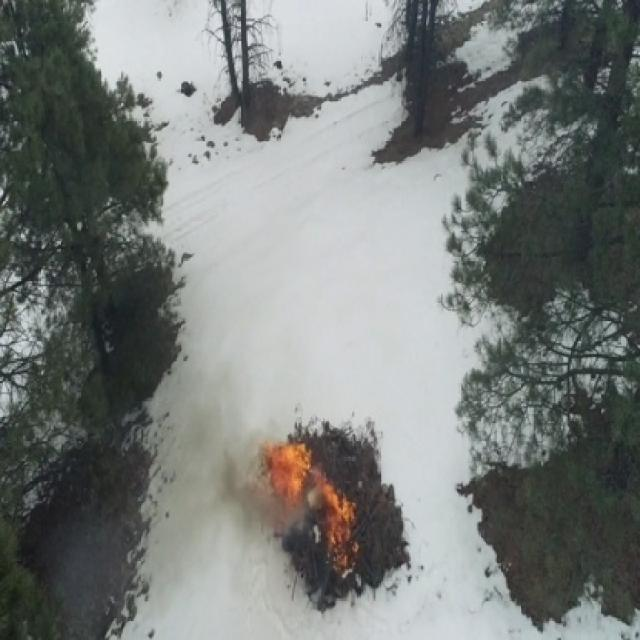Fire: (269, 440, 312, 500), (329, 498, 354, 570), (315, 473, 344, 510)
